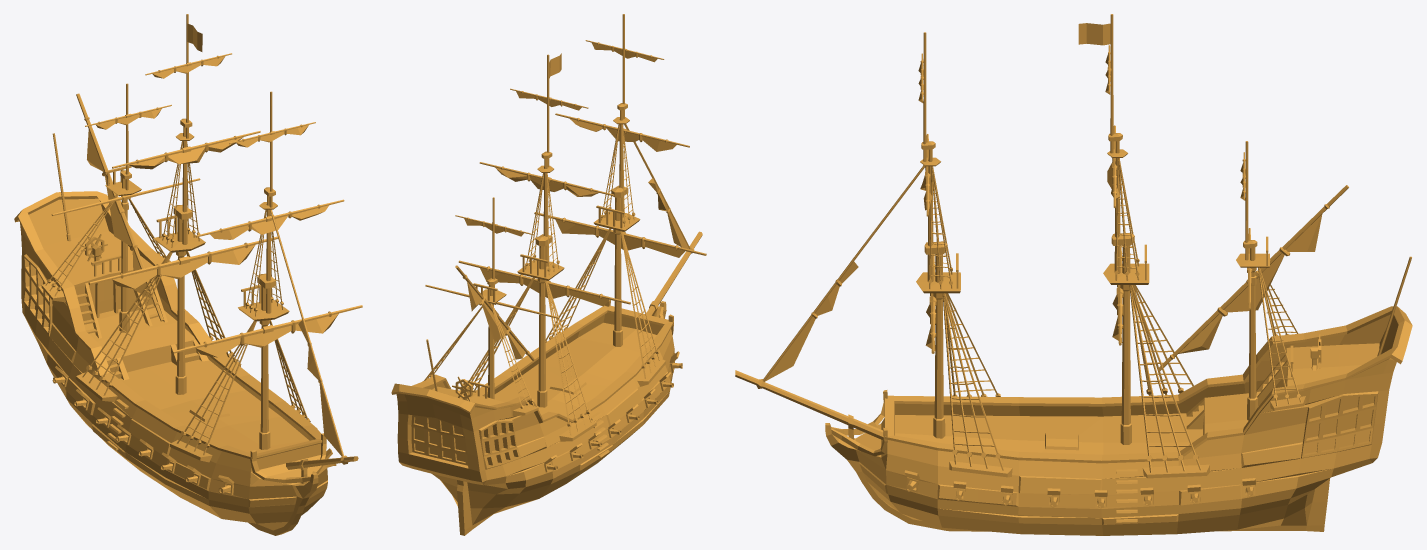
File: ship-pirate.fbx
The picture shows the model from 3 angles, left to right: view 1: azimuth 30°, elevation 25°; view 2: azimuth 150°, elevation 25°; view 3: azimuth 270°, elevation 25°; orthographic projection. The views are drawn at different scales.
Visible parts, largest first — view 1: ship-pirate; view 2: ship-pirate; view 3: ship-pirate.
Part boxes in pixels (x1,y1,x2,y2): ship-pirate: [14, 14, 362, 535]; ship-pirate: [391, 14, 706, 535]; ship-pirate: [735, 14, 1412, 535].
Bounding box in the file's own units: 12.22 × 28.51 × 33.91.
